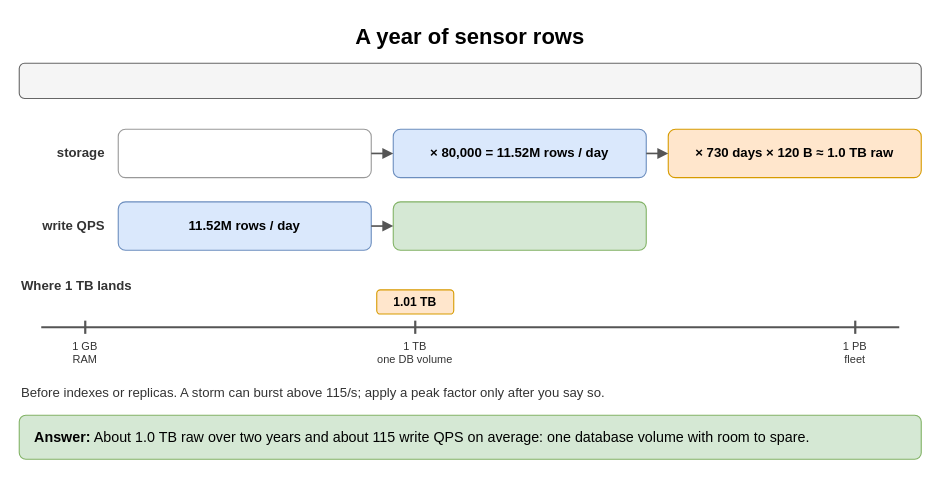
The diagram is 941 pixels wide and 479 high, and some of its shapes have lost their labels. Each missing label, with the centre of its shape:
24 × 6 = 144 rows / station / day: the point at 244,153
80,000 stations, one 120-byte row every 10 minutes, kept 2 years: the point at 469,80
÷ 10^5 s ≈ 115 writes / s (steady): the point at 519,225
